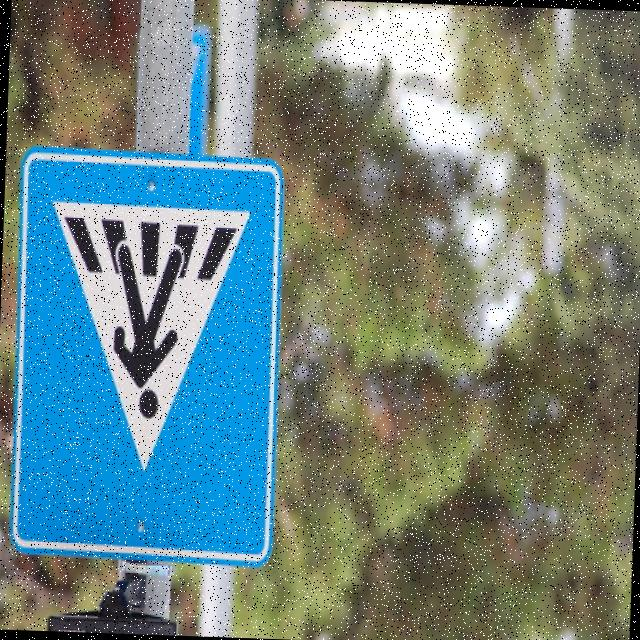crosswalk: (0, 131, 306, 582)
